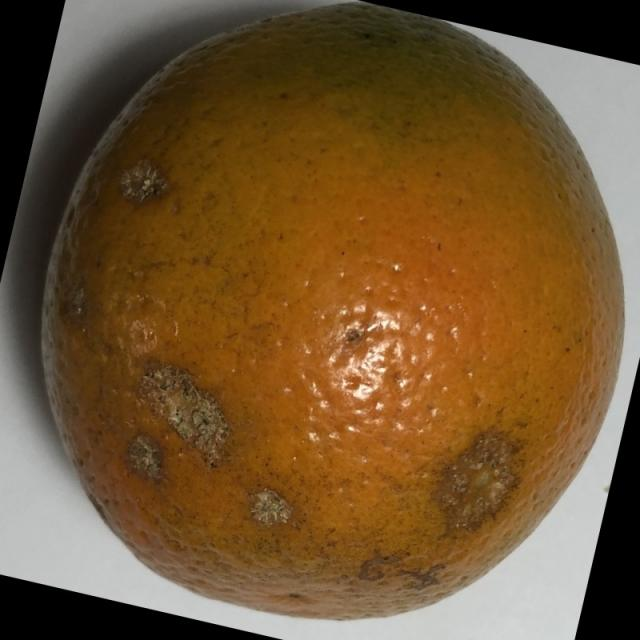canker: (34, 12, 633, 632)
